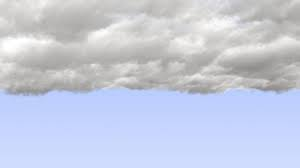sky: (1, 2, 300, 165)
